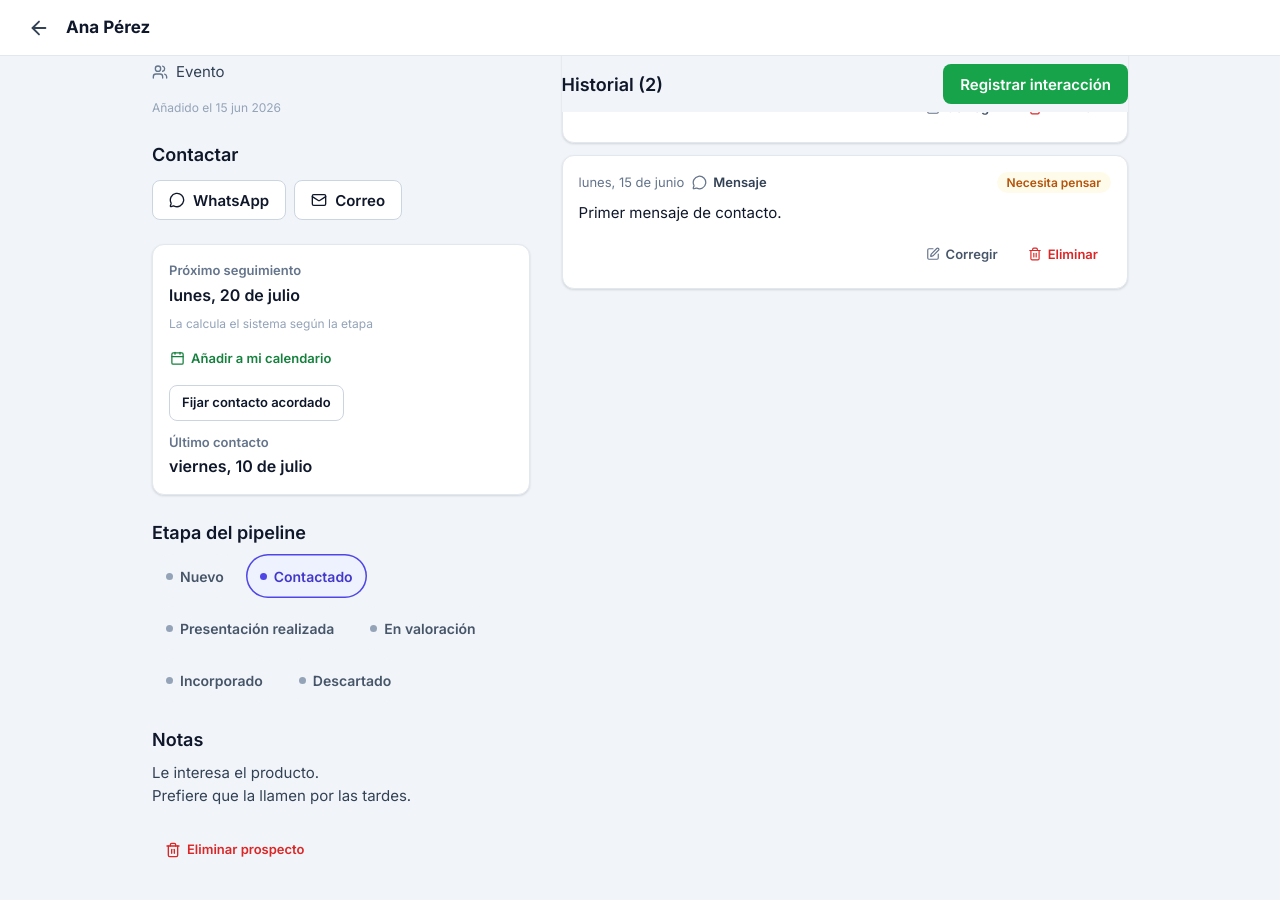
eliminar prospecto (JOS-80) › cancelar cierra sin borrar
The width and height of the screenshot is (1280, 900).
(page scrolled)
Click the button "Eliminar prospecto": [235, 850] box left=152, top=832, right=317, bottom=868
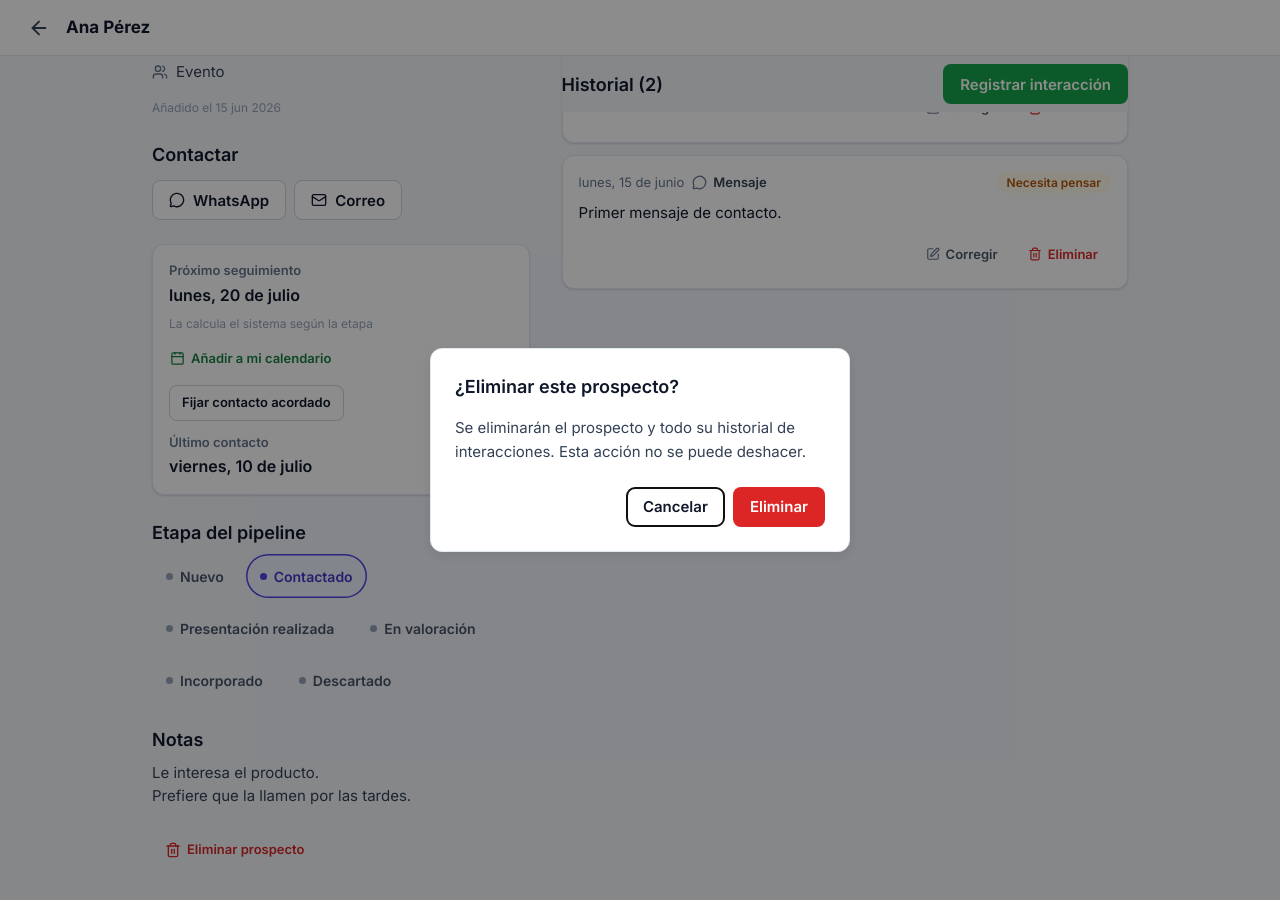
Click the button "Cancelar": [675, 507] box left=626, top=487, right=725, bottom=527
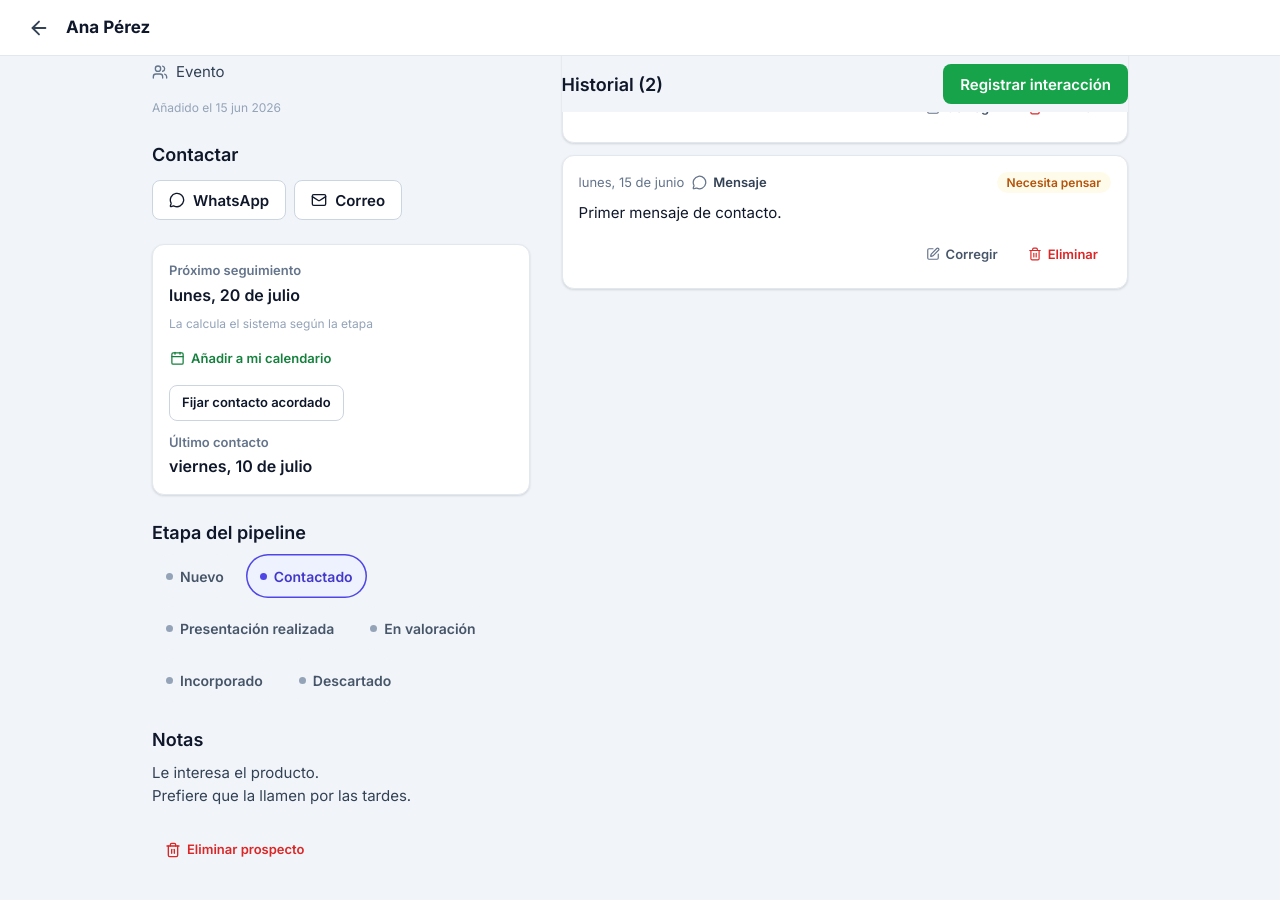
Now the dialog is gone
